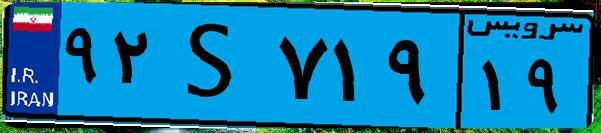1: (330, 28, 385, 110), (475, 38, 525, 113)
2: (110, 28, 158, 98)
7: (270, 28, 330, 110)
9: (385, 28, 445, 110), (57, 26, 110, 100), (525, 38, 570, 115)
S: (158, 12, 270, 120)
